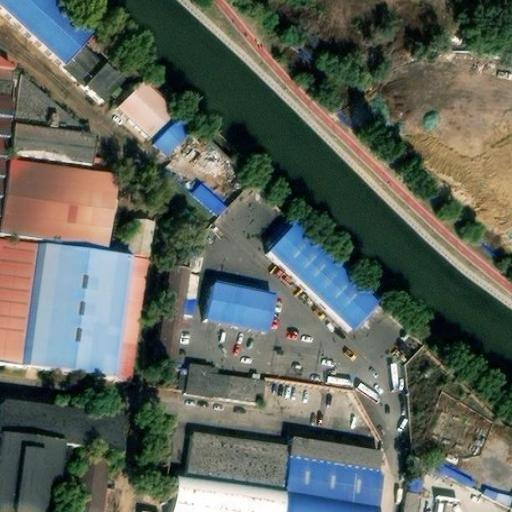building: (21, 245, 132, 389), (266, 232, 376, 337), (277, 440, 379, 507), (178, 432, 284, 495), (164, 480, 372, 512), (113, 84, 189, 159), (60, 454, 138, 512), (4, 129, 95, 175), (181, 361, 261, 404), (203, 287, 271, 334), (5, 67, 60, 123), (159, 257, 196, 315), (81, 67, 123, 109), (428, 455, 480, 488), (185, 182, 224, 221), (125, 209, 157, 255), (153, 308, 180, 359), (70, 51, 102, 83), (476, 479, 512, 504), (426, 488, 460, 512), (399, 488, 419, 512)
